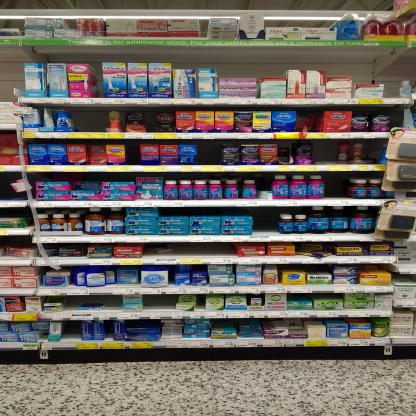Void: (145, 243, 235, 257), (161, 208, 250, 218), (80, 108, 107, 133), (37, 174, 133, 181), (323, 174, 347, 197), (255, 211, 277, 233), (198, 144, 221, 163), (311, 144, 337, 160), (91, 64, 104, 96), (299, 112, 320, 130), (145, 296, 171, 310), (289, 294, 340, 301), (1, 174, 16, 195), (126, 144, 140, 165), (384, 82, 401, 99), (64, 322, 79, 338), (6, 238, 30, 247), (4, 208, 27, 217), (63, 296, 76, 309), (306, 265, 330, 272), (394, 274, 413, 282), (111, 295, 119, 309)
